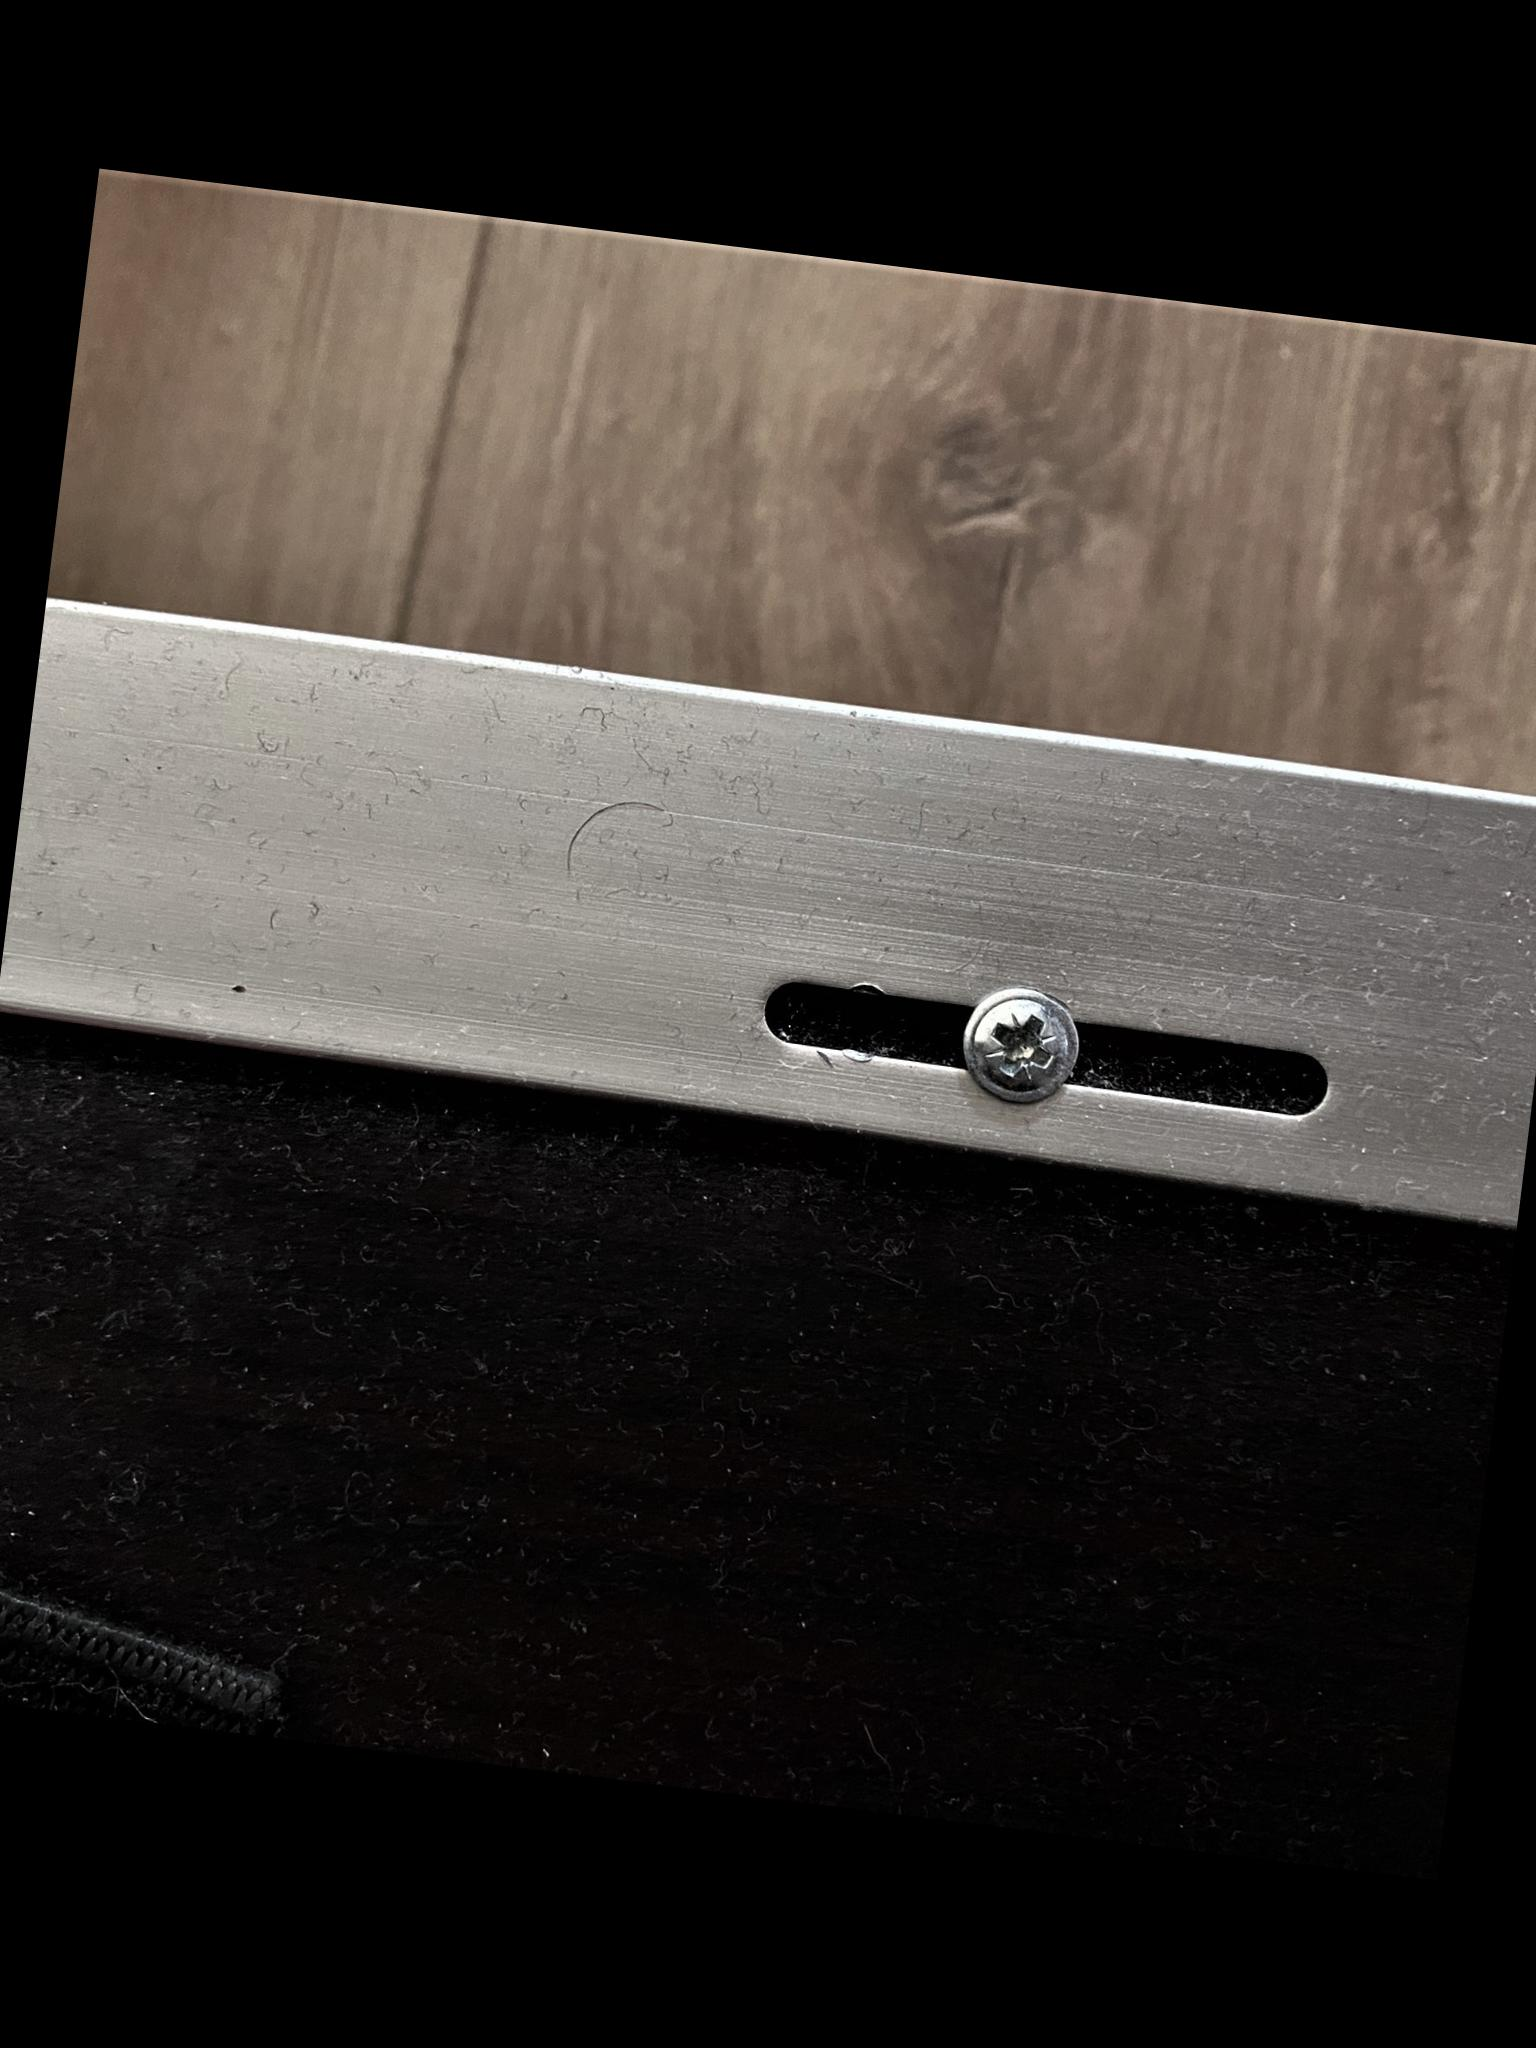PH: (950, 974, 1091, 1116)
